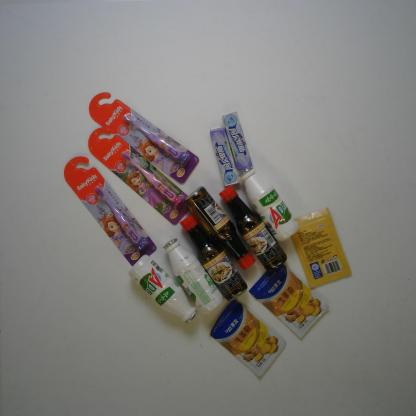Candy: (208, 128, 240, 185), (221, 110, 251, 170)
Milk: (161, 238, 224, 315), (130, 254, 197, 323), (239, 165, 297, 242)
Personal Hygiene: (87, 126, 192, 226), (63, 156, 156, 265), (88, 92, 199, 182)
Seasoner: (209, 297, 289, 379), (248, 266, 332, 340), (218, 184, 286, 270), (184, 187, 254, 266), (179, 215, 243, 301), (290, 207, 351, 290)
